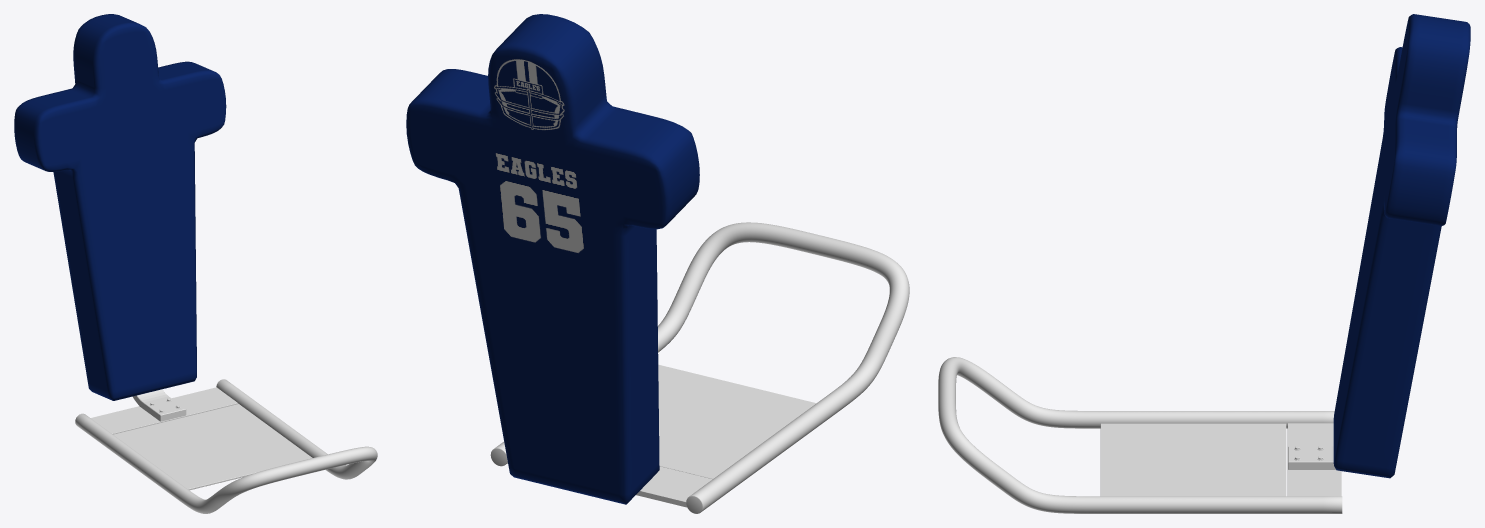
The model's file is Tackling Dummy.fbx.
3 views of the same model, side by side, from view 1: azimuth 30°, elevation 25°; view 2: azimuth 150°, elevation 25°; view 3: azimuth 270°, elevation 25° (orthographic). The views are drawn at different scales.
Visible parts, largest first — view 1: Plane; view 2: Plane; view 3: Plane.
Part boxes in pixels (x1,y1,x2,y2): Plane: (14,14,377,513); Plane: (406,14,909,513); Plane: (938,14,1470,513).
Bounding box in the file's own units: 426 × 780 × 835.
